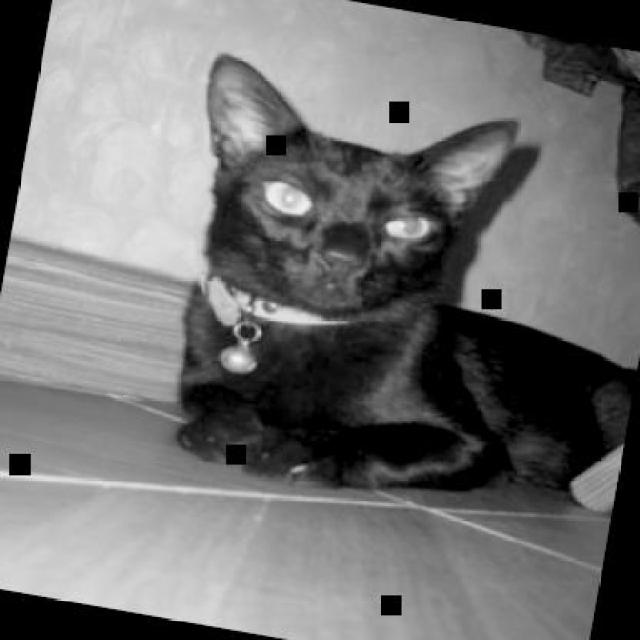cat: (140, 48, 638, 544)
